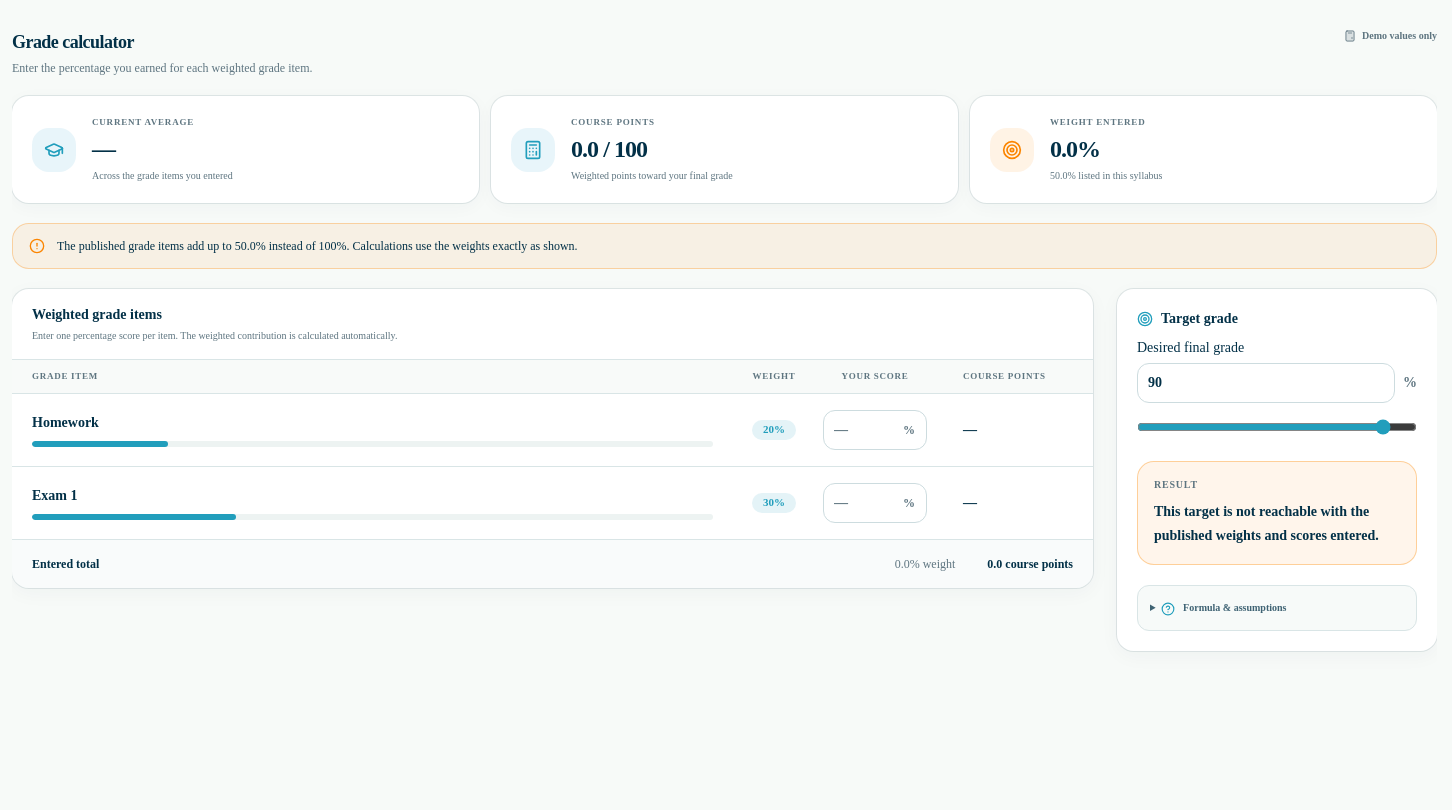
Test: percentage grade entry › turns a category percentage into weighted course points
Type "85" into the field named "Homework score percent".
click(875, 430); type("85")  # box [823, 410, 927, 450]
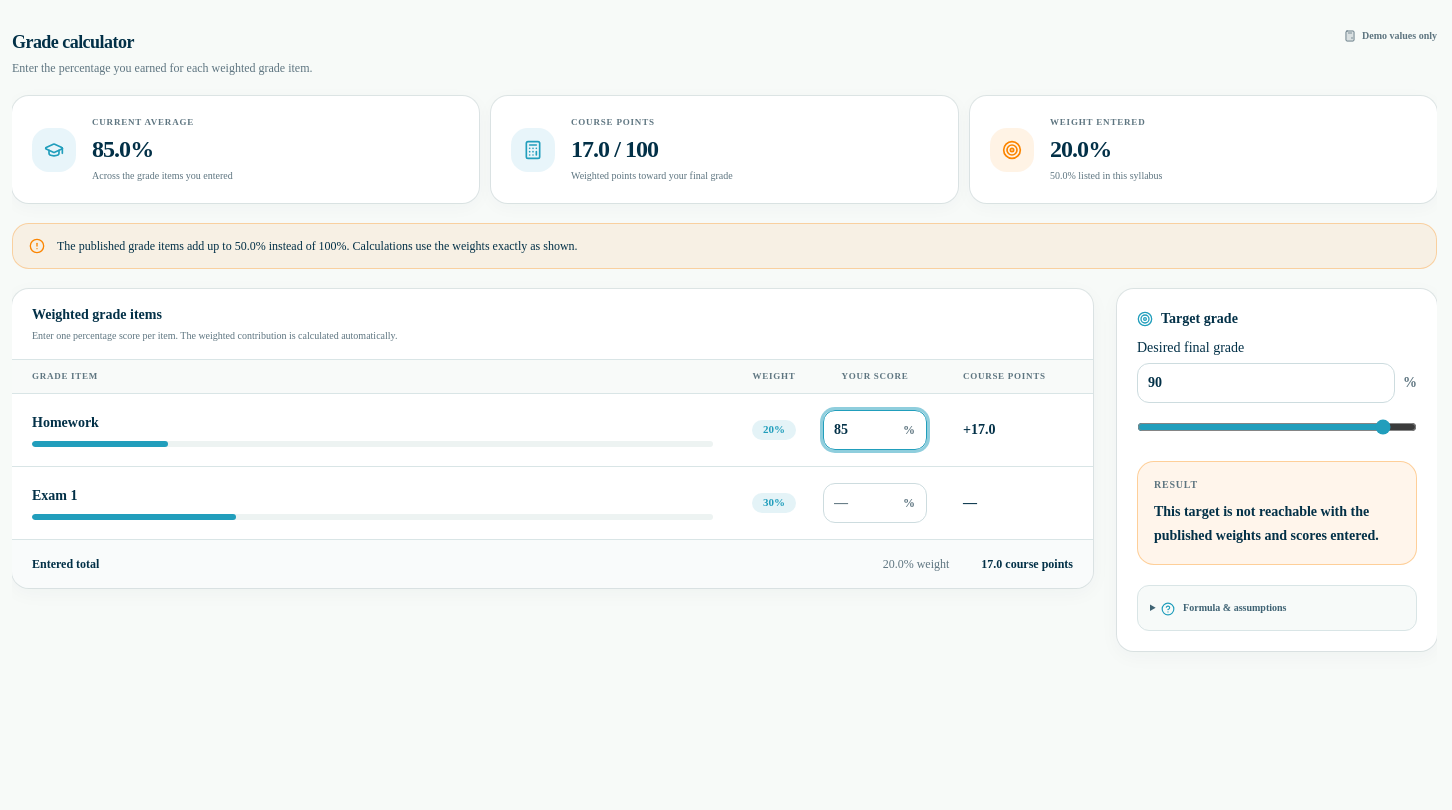
Check: the text "+17.0" is shown, box [963, 422, 996, 437]
Check: the text "17.0 / 100" is shown, box [571, 136, 658, 162]
Check: the text "85.0%" is shown, box [92, 136, 153, 162]
